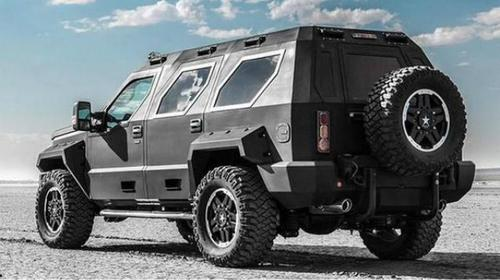汽车: (11, 28, 481, 271)
